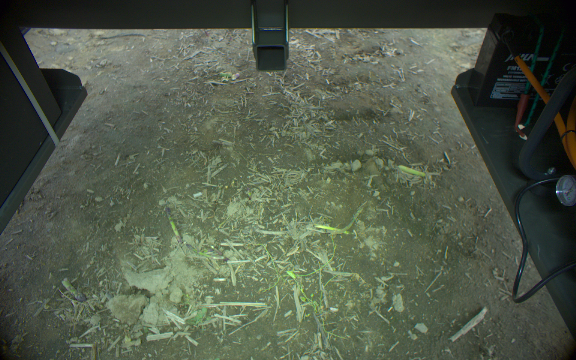aspa: (164, 204, 184, 248), (61, 278, 85, 304), (310, 221, 349, 234), (396, 163, 425, 178)
